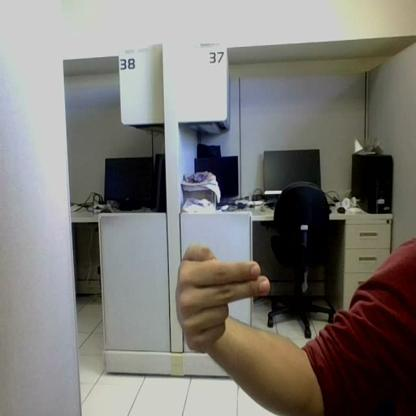H: (175, 245, 271, 354)
